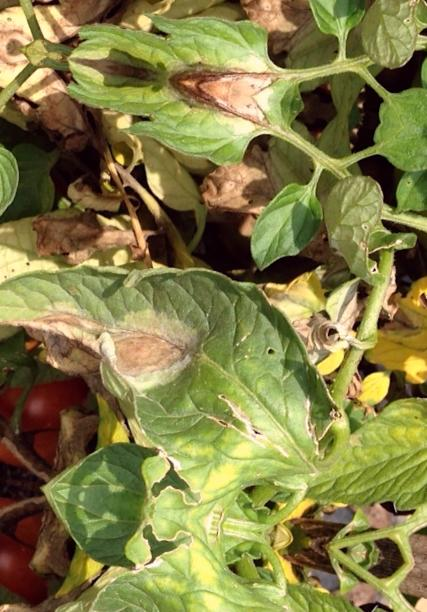Tomato leaf late blight: (0, 227, 383, 516), (56, 59, 315, 175), (290, 357, 427, 539), (0, 88, 35, 340)
